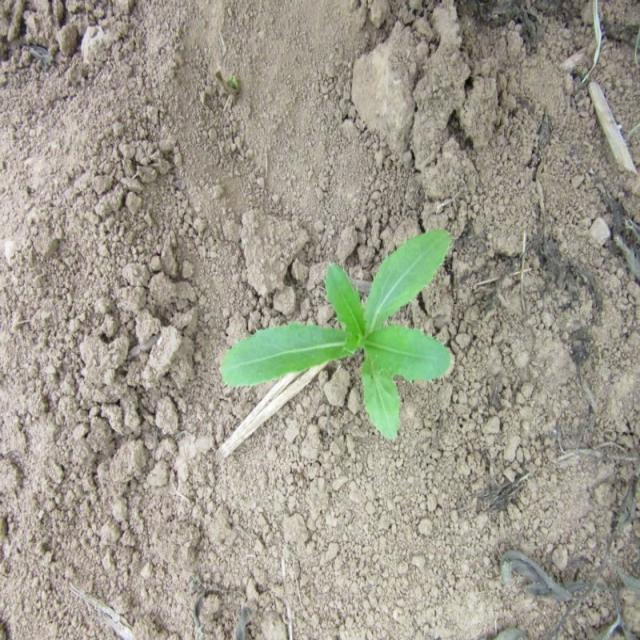cs: (218, 228, 462, 449)
